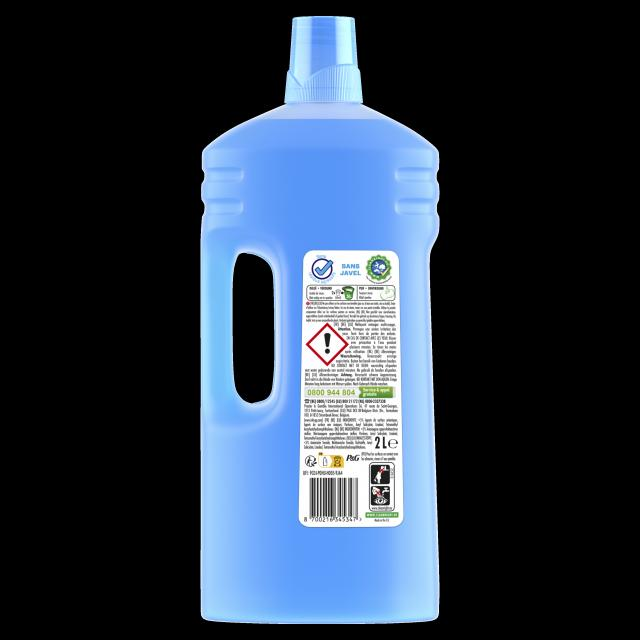GHS_Symbol_EXCLAMATION_MARK: (305, 323, 348, 366)
